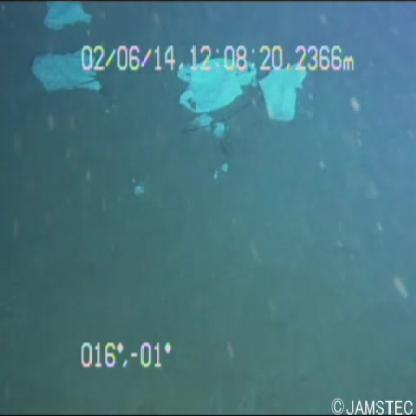Rác: (160, 36, 256, 129), (22, 38, 104, 105), (256, 50, 310, 134)
